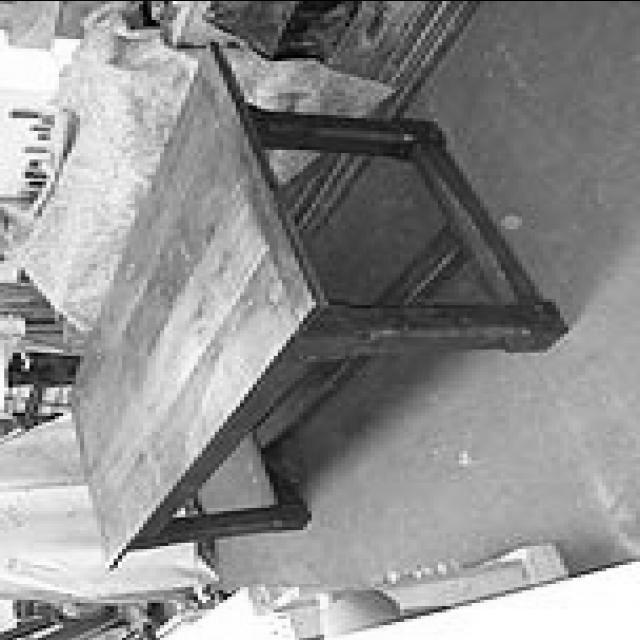table: (66, 41, 566, 586)
